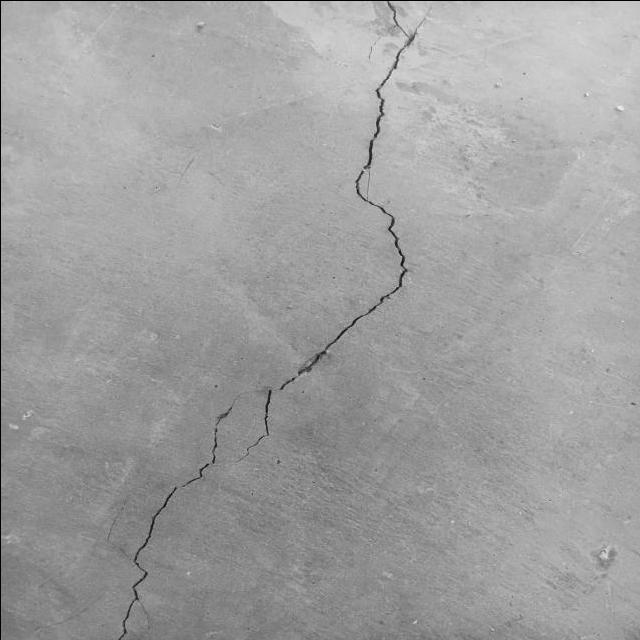SurfaceCrack: (62, 1, 460, 640)
